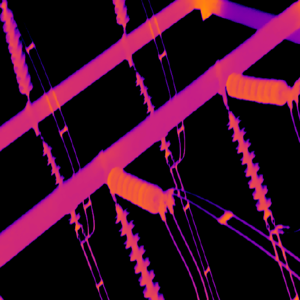insulator: (113, 199, 164, 300), (228, 110, 270, 211), (43, 137, 83, 231), (135, 66, 171, 160), (0, 0, 33, 94), (106, 166, 162, 213), (225, 70, 288, 107), (113, 0, 127, 30)
